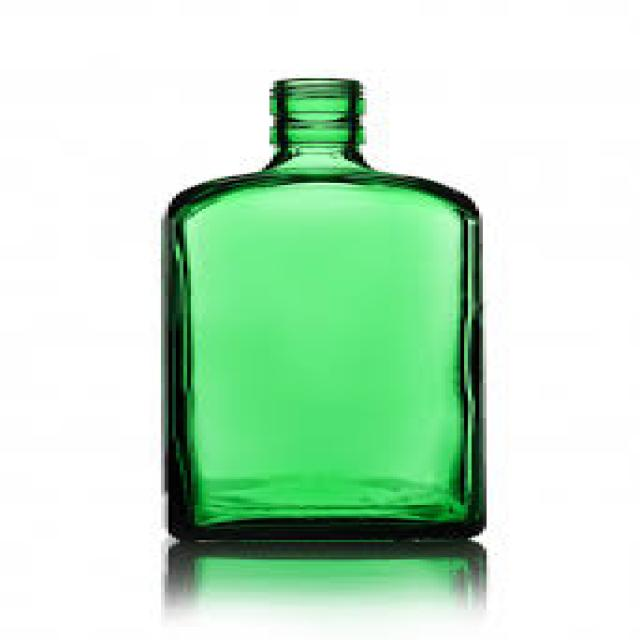glass: (157, 78, 483, 540)
